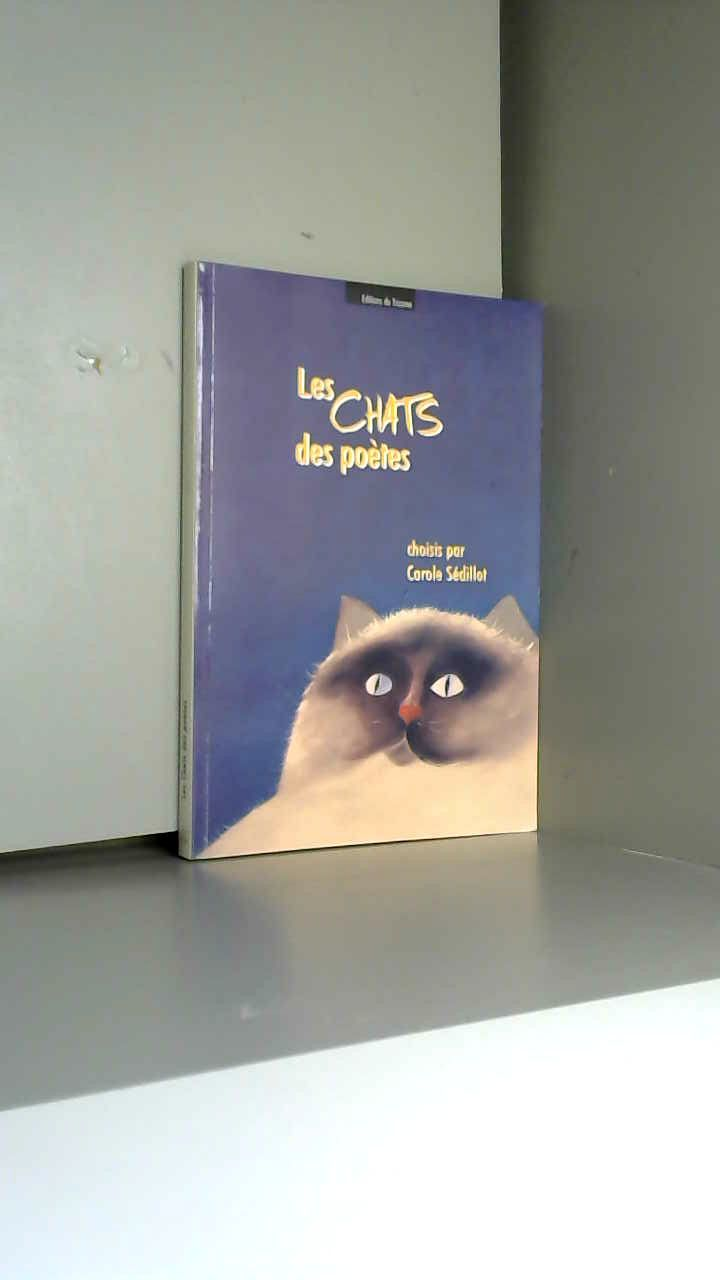book: (143, 229, 581, 897)
